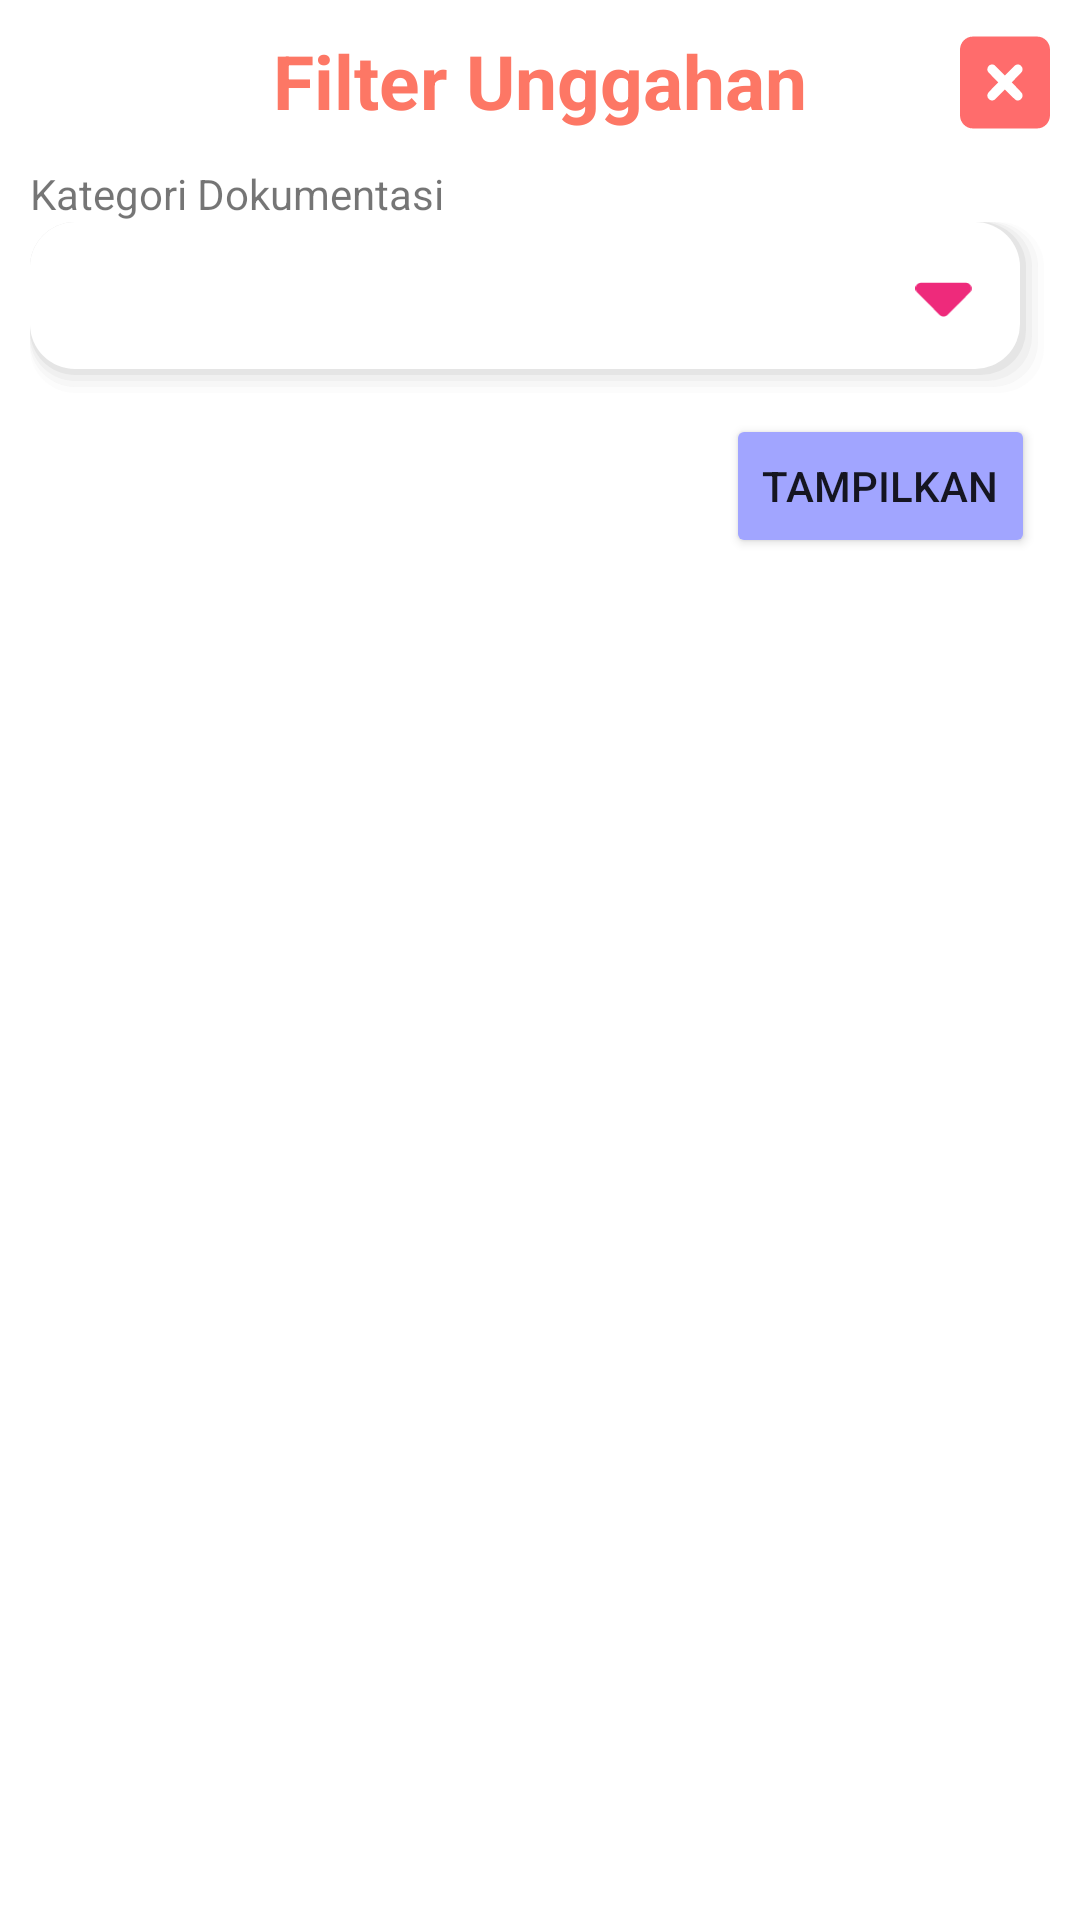

Icon click points for this 1080px×1920px phone screenshot, format (x=x, y=y):
caret down: (x=943, y=299)
square xmark: (x=1005, y=82)
